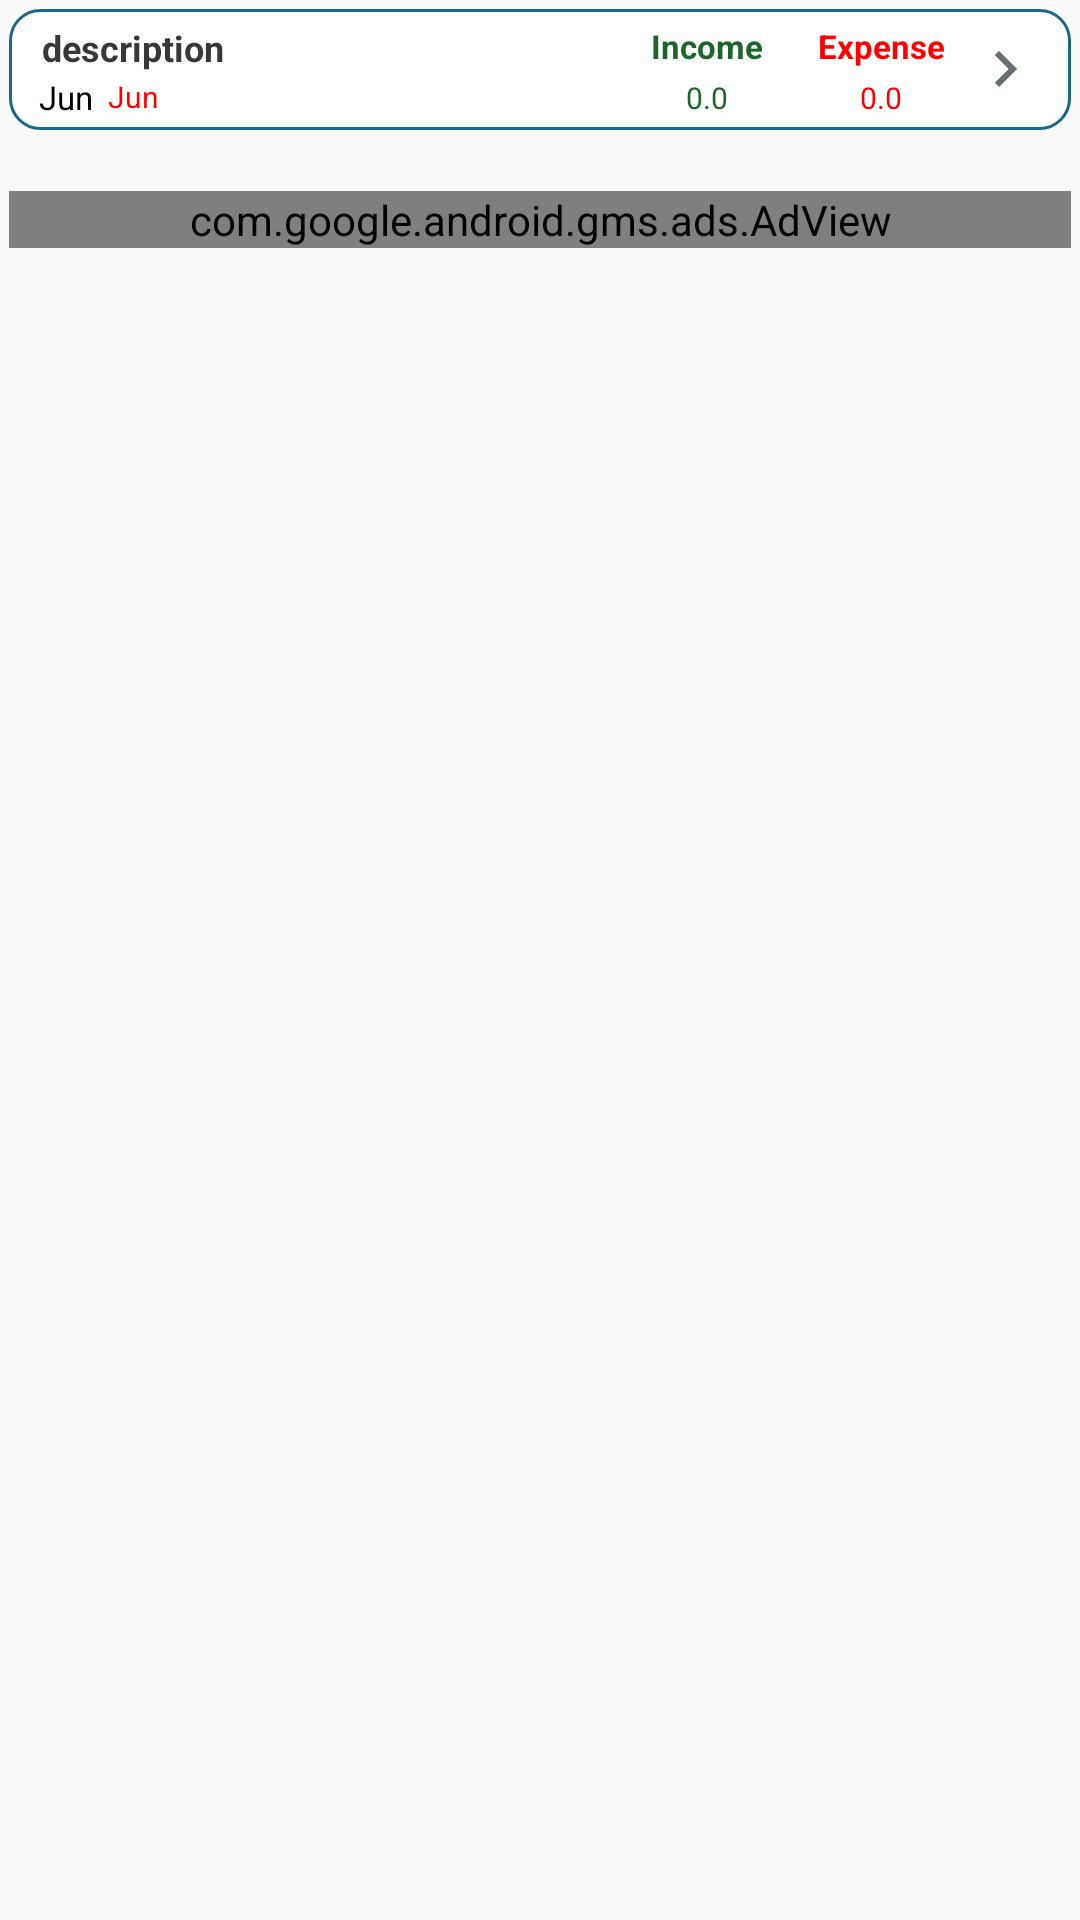

Point at icon controls on the screen. Image size 1080×1920, points as (x,y).
keyboard arrow right: (1006,69)
